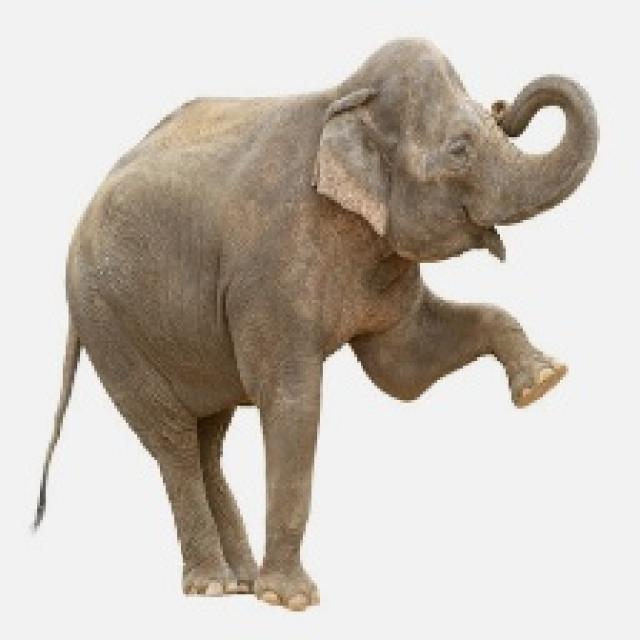animal: (36, 75, 597, 597)
